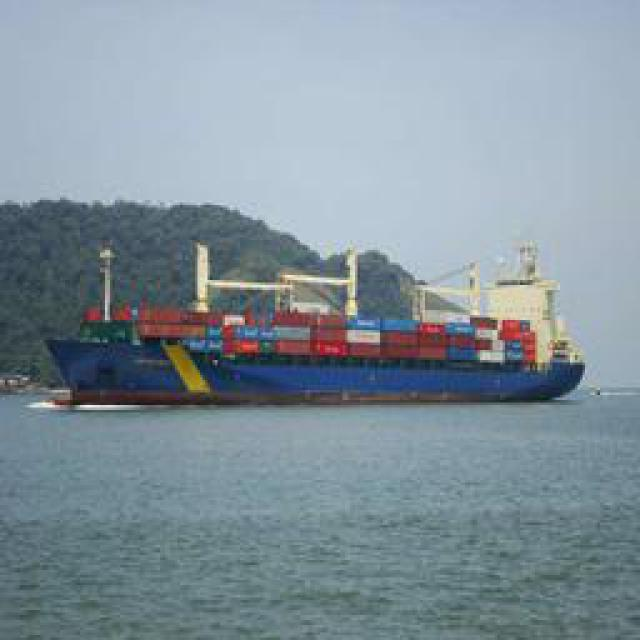Ship: (29, 242, 592, 412)
